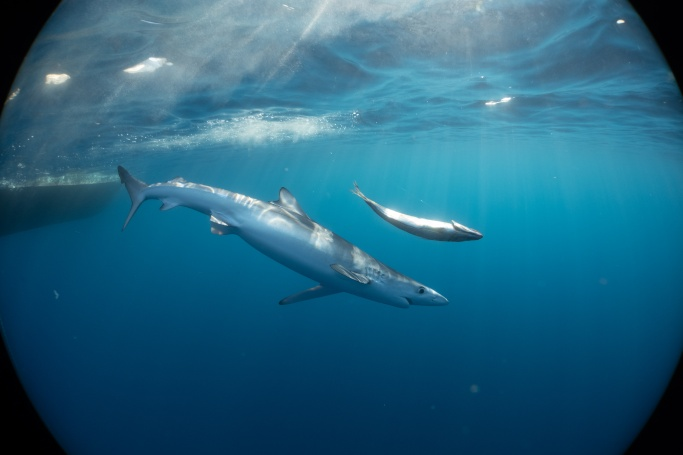Azul: (3, 105, 680, 362), (104, 155, 453, 344)
